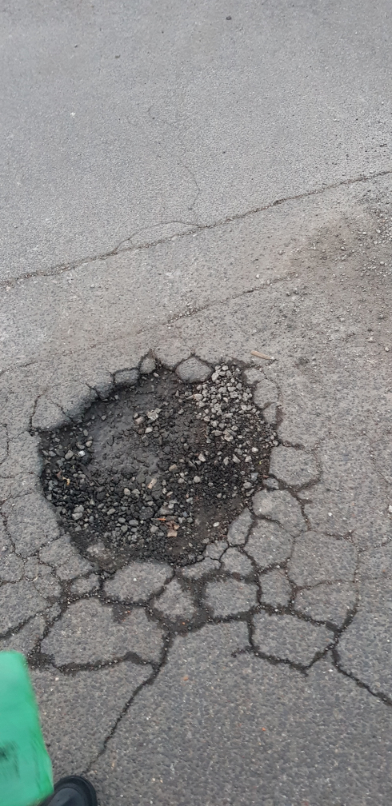pothole: (27, 345, 290, 575)
